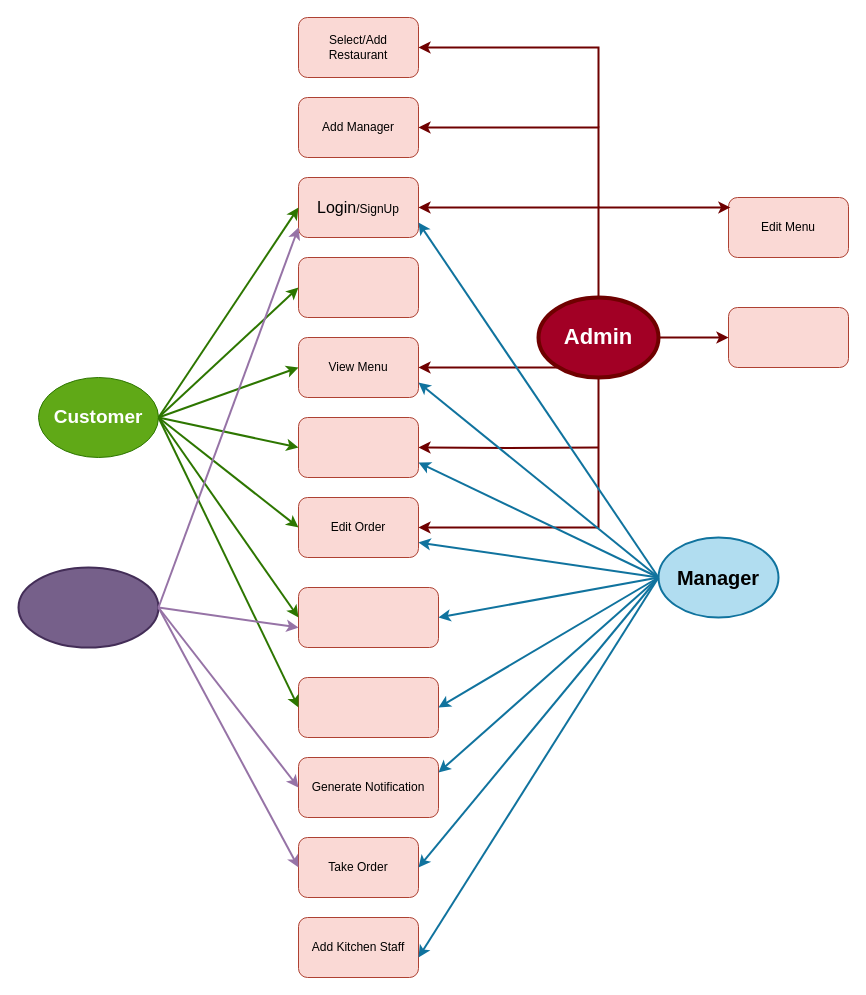
Image size: 866x995. Some labels were removed from this diagram. The centre of each missing label's shape, as x and y in pixels:
"Clear Bill" belongs at pixel 368 707.
"Kitchen Staff" belongs at pixel 88 607.
"Place Order" belongs at pixel 358 287.
"Recieve Notifications" belongs at pixel 368 617.
"View Customer Records" belongs at pixel 788 337.
"View Order" belongs at pixel 358 447.
